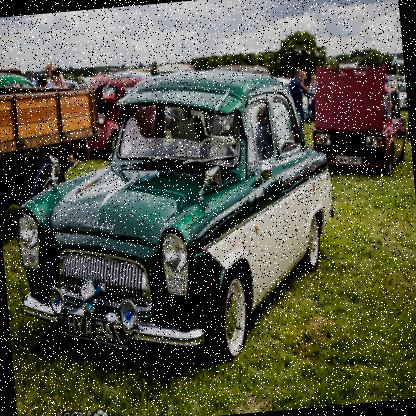Car: (0, 40, 415, 384)
